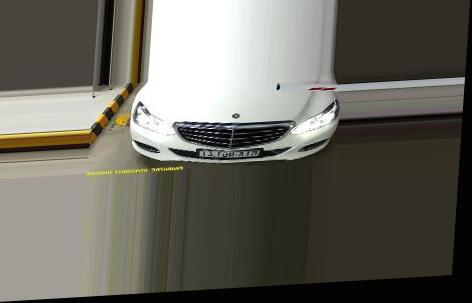License_Plate: (195, 145, 264, 161)
